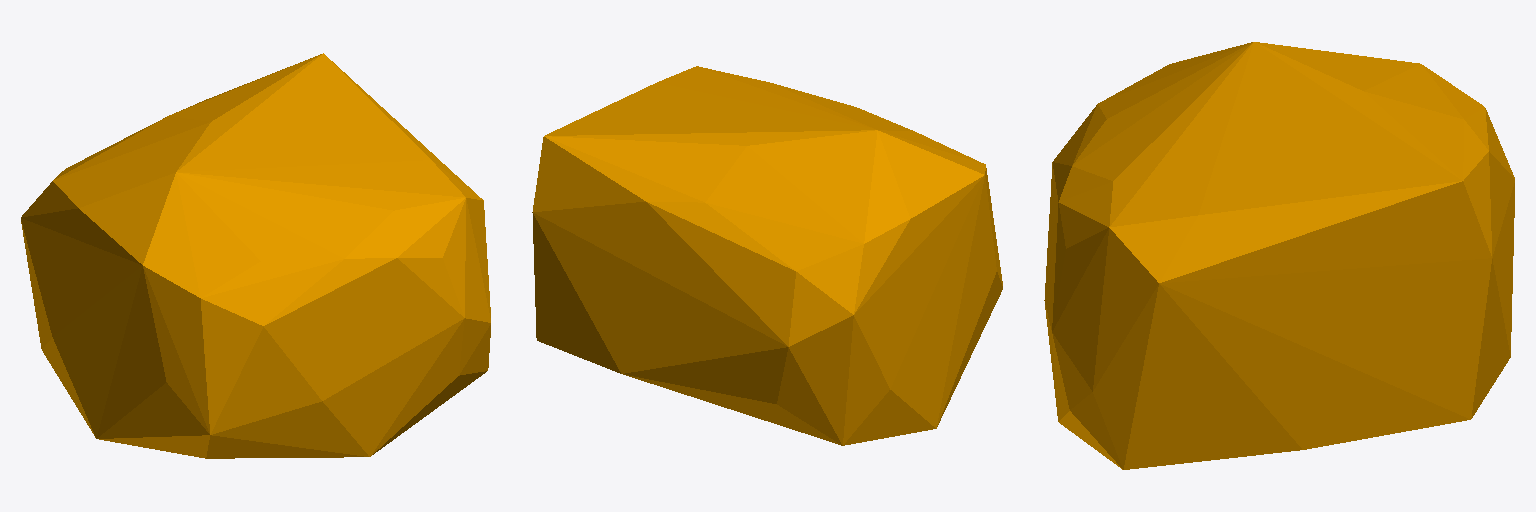
URDF robot description (18_313):
<?xml version="1.0"?>
<robot name="18_313">
  <link name="link">
    <contact>
      <lateral_friction value="0.6"/>
    </contact>
    <inertial>
      <mass value = "0.48809134247871255"/>
      <inertia ixx="0.00024194095788058998" ixy="-6.131900861304209e-06" ixz="1.14205596360561e-05" iyy="0.0002532858137996723" iyz="1.5426299963905878e-05" izz="0.0003328536978899908" />
    </inertial>
    <visual name="visual">
      <geometry>
        <mesh filename="18_313.obj"/>
      </geometry>
    </visual>
    <collision name="collision">
      <geometry>
        <mesh filename="18_313.obj"/>
      </geometry>
    </collision>
  </link>
</robot>

--- Facts derived from the render (not from the file) ---
3 views of the same robot in one strip: view 1: azimuth 30°, elevation 25°; view 2: azimuth 150°, elevation 25°; view 3: azimuth 270°, elevation 25° (orthographic).
Model 18_313 with 1 links and 0 joints (none), rooted at link, posed every joint at zero.
Links seen in each view (by area): view 1: link; view 2: link; view 3: link.
Link boxes in pixels (<box>): link: <box>21,53,490,458</box>; link: <box>532,66,1002,445</box>; link: <box>1044,42,1514,469</box>.
Size in the robot's own frame: 0.0727 by 0.0717 by 0.0534 metres.
Meshes: 1 distinct files referenced, 1 mesh visuals loaded (1 OBJ).
